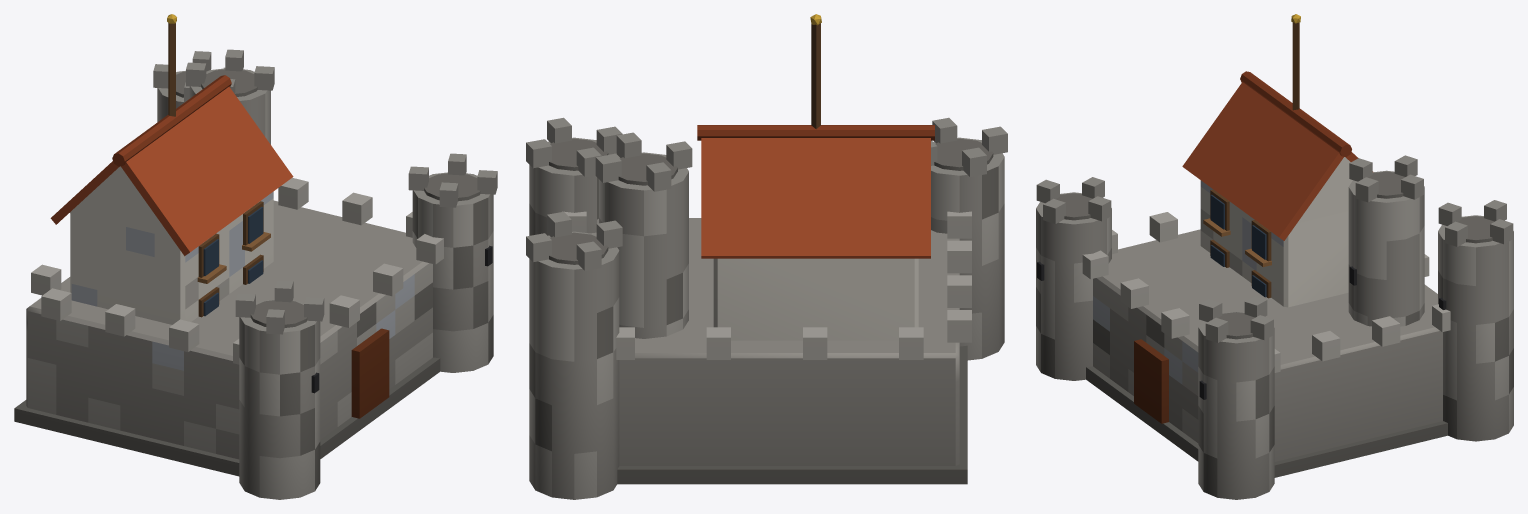
Rendered from building_24.glb.
3 views of the same model, side by side, from view 1: azimuth 30°, elevation 25°; view 2: azimuth 150°, elevation 25°; view 3: azimuth 270°, elevation 25° (orthographic). The views are drawn at different scales.
Parts seen in each view (by area): view 1: building_24; view 2: building_24; view 3: building_24.
Boxes of the visible parts, <box> form: building_24: <box>14,14,497,499</box>; building_24: <box>526,14,1007,499</box>; building_24: <box>1036,14,1513,499</box>.
Bounding box in the file's own units: 1.35 × 1.14 × 1.38.
